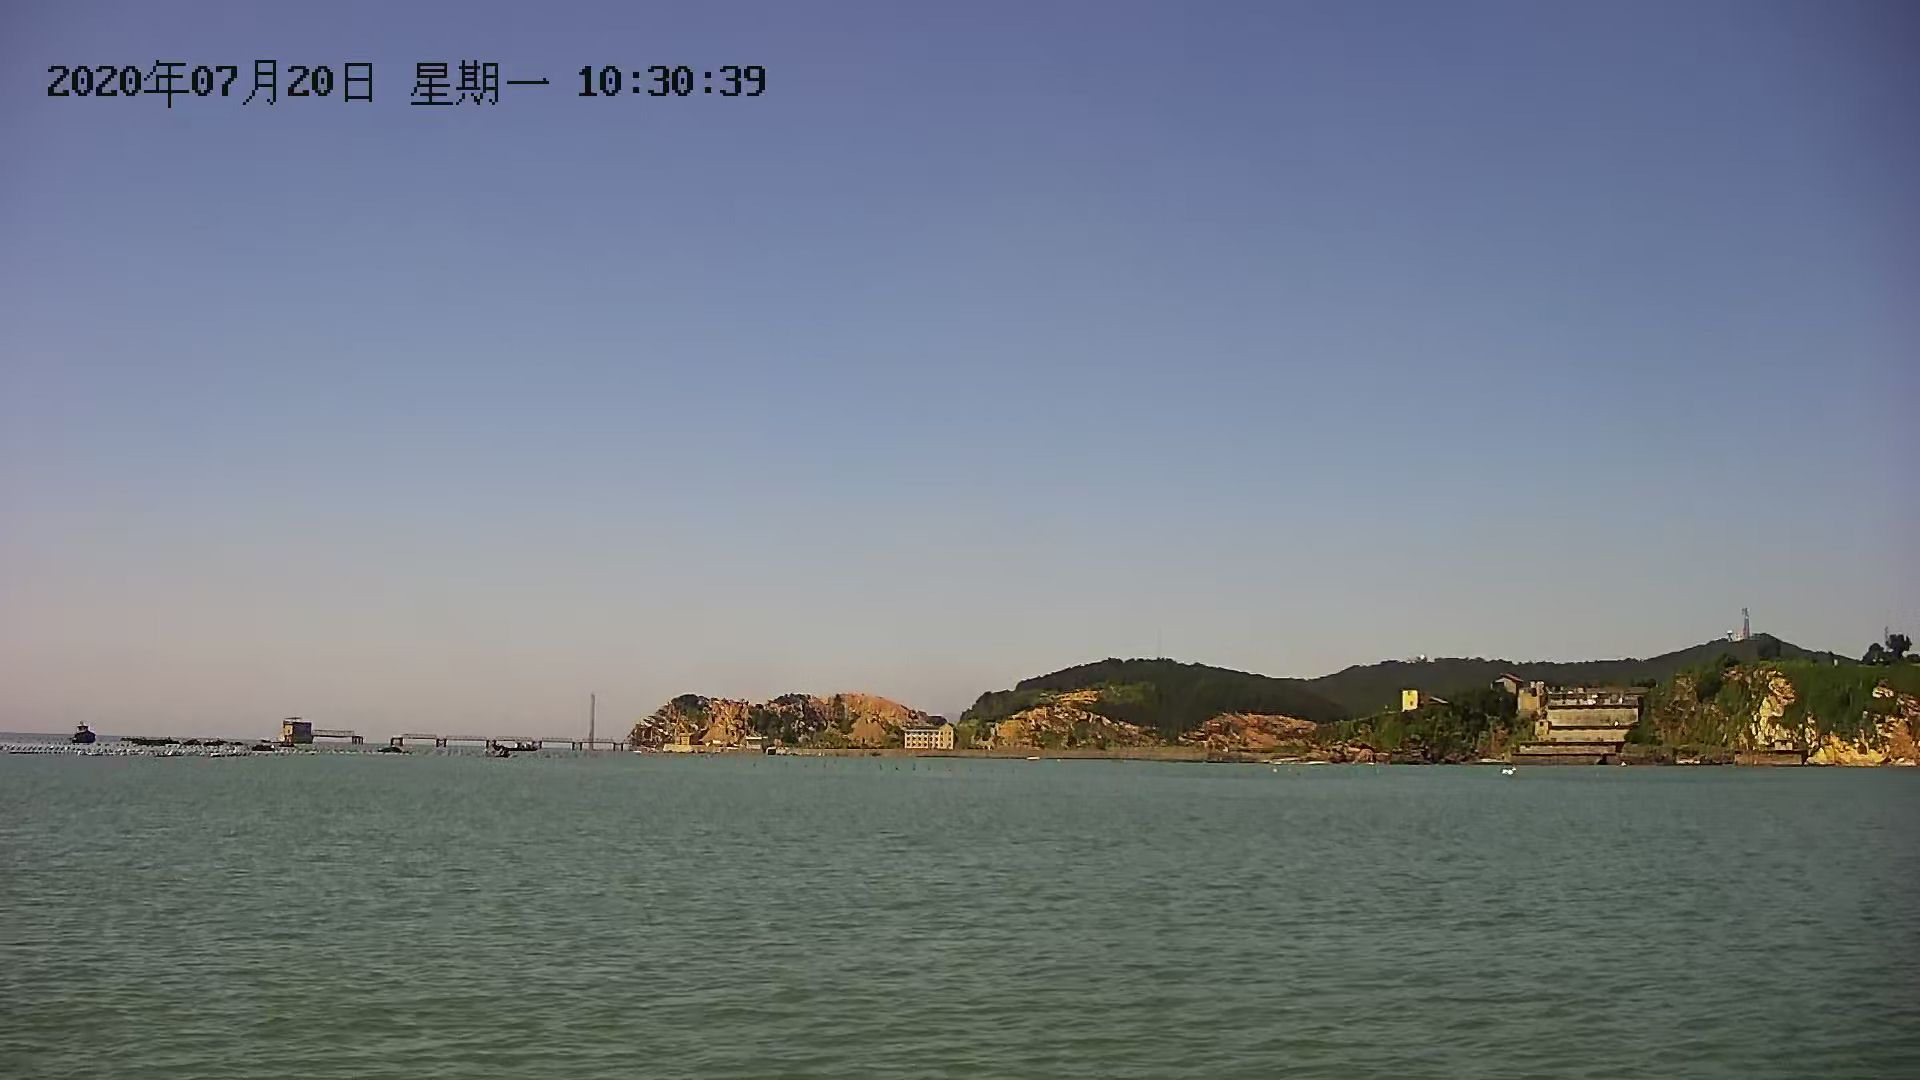harbor: (274, 713, 638, 758)
mast: (583, 684, 603, 756)
